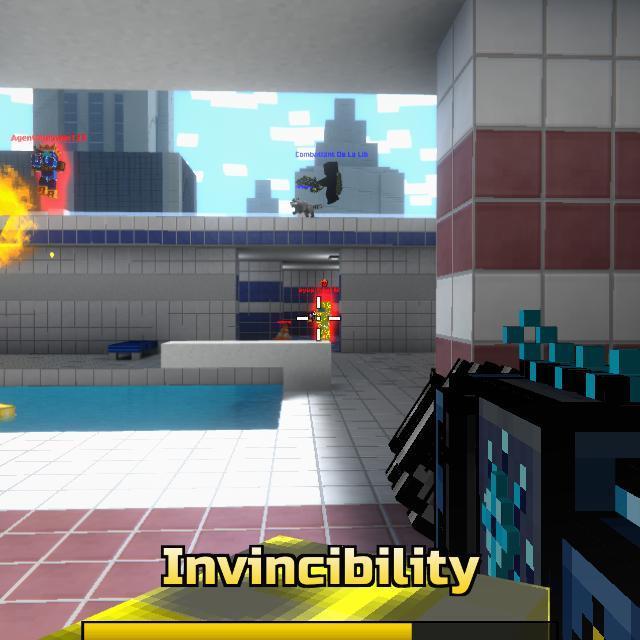Enemy: (30, 147, 66, 199), (307, 302, 332, 340)
